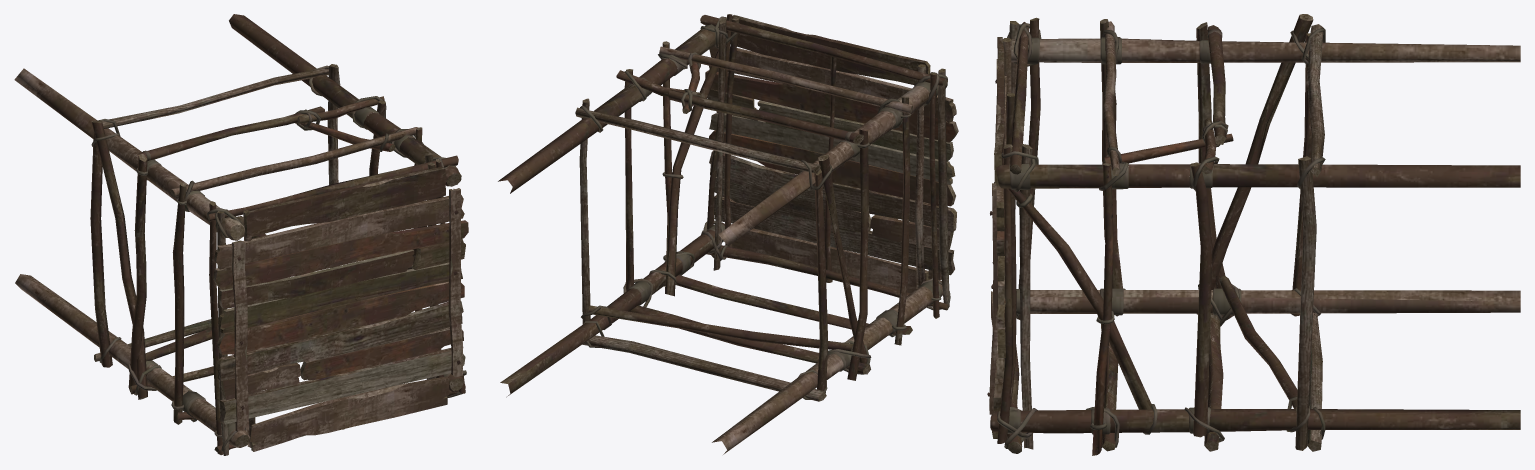
Rendered from GEN_PRO_Scaffold_3x3_3m_LOD0-transformed.glb.
3 renders of one model, left to right at view 1: azimuth 30°, elevation 25°; view 2: azimuth 150°, elevation 25°; view 3: azimuth 270°, elevation 25°, orthographic. The views are drawn at different scales.
Visible parts, largest first — view 1: GEN_PRO_Scaffold_3x3_3m_LOD0; view 2: GEN_PRO_Scaffold_3x3_3m_LOD0; view 3: GEN_PRO_Scaffold_3x3_3m_LOD0.
Boxes of the visible parts, x1,y1,x2,y2 form: GEN_PRO_Scaffold_3x3_3m_LOD0: (14, 14, 468, 455); GEN_PRO_Scaffold_3x3_3m_LOD0: (498, 14, 958, 454); GEN_PRO_Scaffold_3x3_3m_LOD0: (987, 14, 1520, 455).
Bounding box in the file's own units: 0.0337 × 0.0317 × 0.0506.
Materials: 2 (2 with a texture image).
